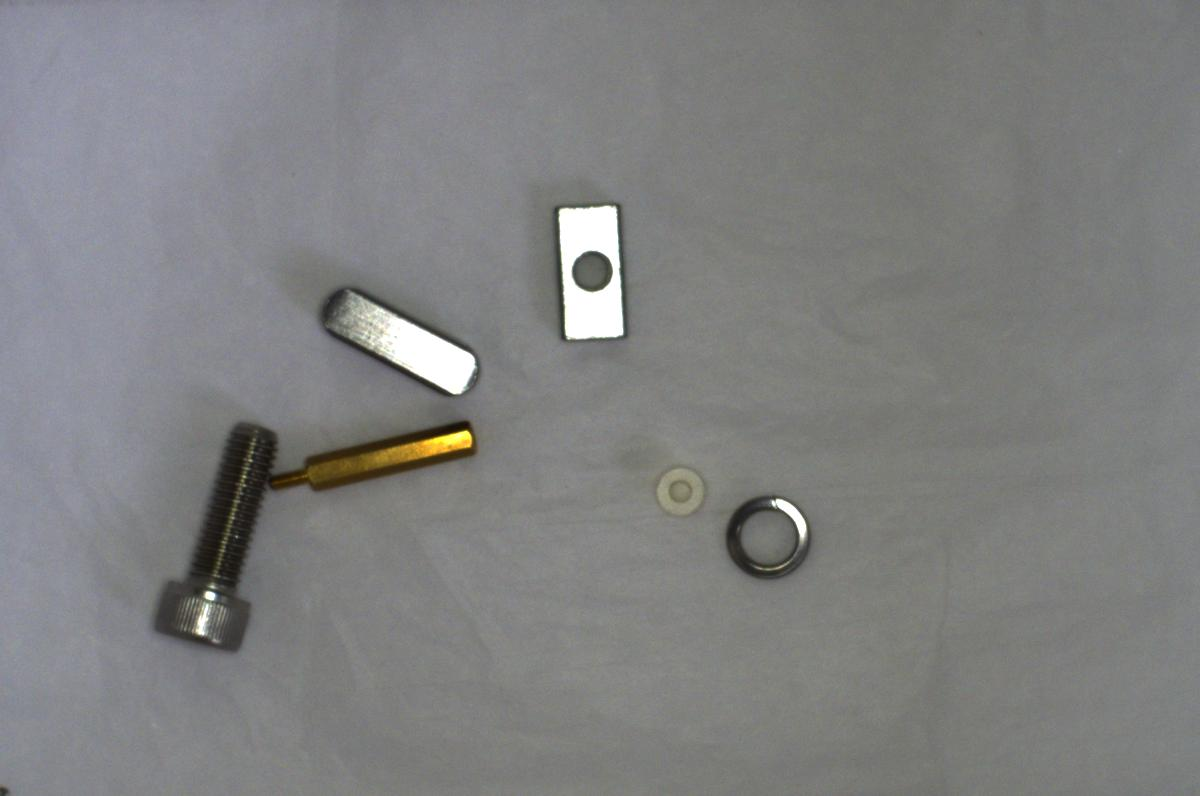Hexagon pillar: (268, 419, 479, 498)
Hexagon screw: (152, 416, 274, 655)
Keybar: (314, 282, 482, 403)
Plastic cushion pillar: (646, 456, 713, 519)
Rectangular nut: (550, 199, 630, 361)
Spring washer: (721, 486, 818, 587)
